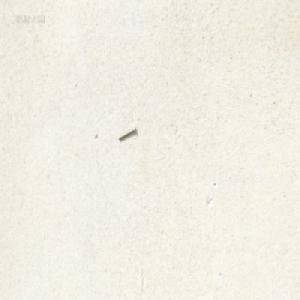Bolt: (117, 126, 135, 140)
